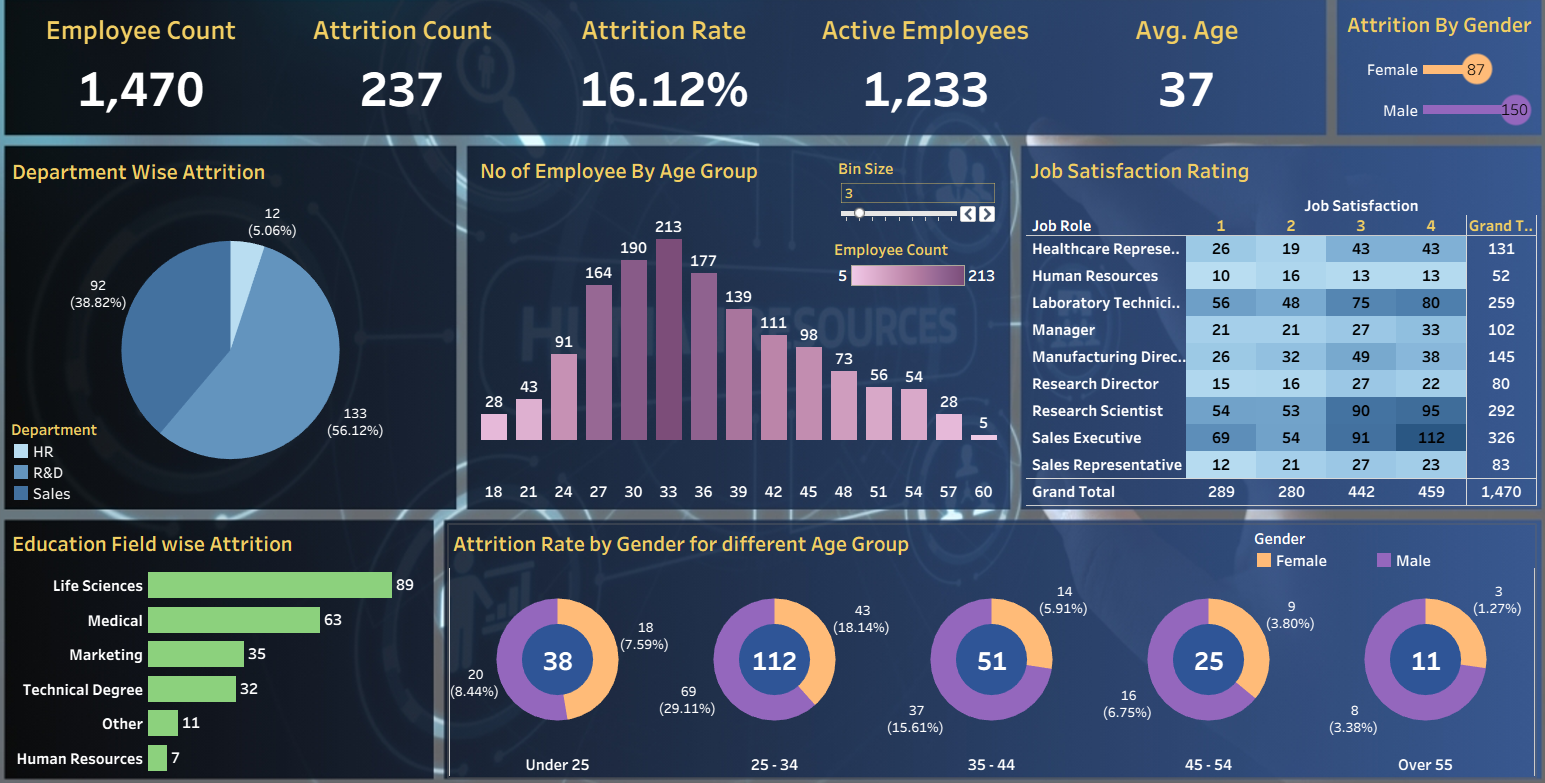

Layout of this report page (visuals, bound fields, positions):
{"tool":"tableau","page":{"name":"HR ANALYTICS DASHBOARD","canvas":[1580,900],"ordinal":0},"visuals":[{"type":"image","param":"Image/Screenshot_7-12-2025_20198_docs.google.com.jpeg","box":[8,8,1564,884]},{"type":"text","box":[35,24,851,59]},{"type":"filter","title":"Department Wise Attrition","param":"[federated.0rad6ux13axqer19xzir20cgcj3m].[none:Education:nk]","box":[871,24,160,58]},{"type":"worksheet","title":"KPI","mark":"Automatic","box":[25,105,1308,122]},{"type":"worksheet","title":"Attrition By Gender","mark":"Automatic","rows":["Gender"],"cols":["Calculation_1553178936209092608","Calculation_1553178936209092608"],"box":[1358,105,193,124]},{"type":"worksheet","title":"No of Employee By Age Group","mark":"Automatic","rows":["Employee Count"],"cols":["Age (bin)"],"box":[491,251,526,351]},{"type":"worksheet","title":"Job Satisfaction Rating","mark":"Square","rows":["Job Role"],"cols":["Job Satisfaction"],"box":[1041,251,511,354]},{"type":"worksheet","title":"Department Wise Attrition","mark":"Pie","box":[23,252,445,351]},{"type":"parameter","param":"[Parameters].[Parameter 1]","box":[853,257,160,71]},{"type":"legend","title":"No of Employee By Age Group","param":"[federated.0rad6ux13axqer19xzir20cgcj3m].[sum:Employee Count:qk]","box":[849,338,166,51]},{"type":"legend","title":"Department Wise Attrition","param":"[federated.0rad6ux13axqer19xzir20cgcj3m].[none:Department:nk]","box":[26,518,101,86]},{"type":"worksheet","title":"Education Field wise Attrition","mark":"Automatic","rows":["Education Field"],"cols":["Calculation_1553178936209092608"],"box":[23,624,422,250]},{"type":"worksheet","title":"Attrition Rate by Gender for different Age Group","mark":"Pie","rows":["Calculation_457959802886979585","Calculation_457959802886979585"],"cols":["CF_age band"],"box":[464,624,1086,252]},{"type":"legend","title":"Attrition Rate by Gender for different Age Group","param":"[federated.0rad6ux13axqer19xzir20cgcj3m].[none:Gender:nk]","box":[1269,627,274,43]}]}

Visuals, with their boxes on the page's 1580x900 design canvas (x1, y1, x2, y2). These are canvas units, not pixel positions in the 1545x783 screenshot, which may show the page scaled, cropped or inside an application window:
image: 8, 8, 1572, 892
text: 35, 24, 886, 83
"Department Wise Attrition" filter: 871, 24, 1031, 82
"KPI" worksheet: 25, 105, 1333, 227
"Attrition By Gender" worksheet: 1358, 105, 1551, 229
"No of Employee By Age Group" worksheet: 491, 251, 1017, 602
"Job Satisfaction Rating" worksheet (Square marks): 1041, 251, 1552, 605
"Department Wise Attrition" worksheet (Pie marks): 23, 252, 468, 603
parameter: 853, 257, 1013, 328
"No of Employee By Age Group" legend: 849, 338, 1015, 389
"Department Wise Attrition" legend: 26, 518, 127, 604
"Education Field wise Attrition" worksheet: 23, 624, 445, 874
"Attrition Rate by Gender for different Age Group" worksheet (Pie marks): 464, 624, 1550, 876
"Attrition Rate by Gender for different Age Group" legend: 1269, 627, 1543, 670
